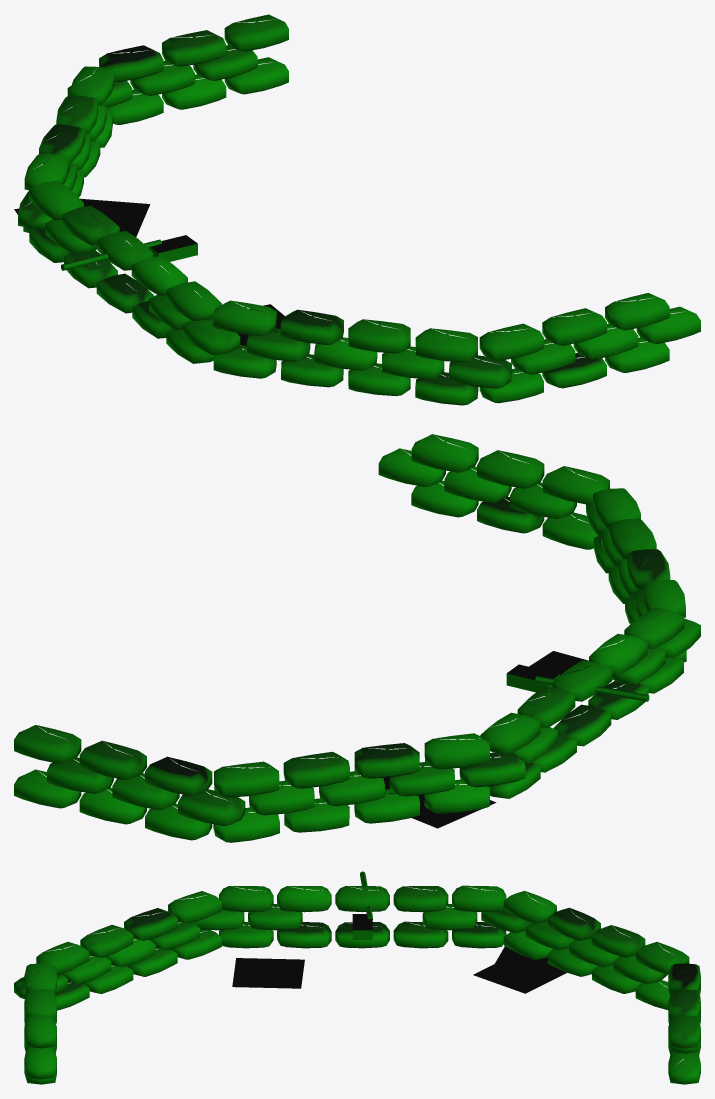
Rendered from sandbagbunker.glb.
3 views of the same model, one above another, from view 1: azimuth 30°, elevation 25°; view 2: azimuth 150°, elevation 25°; view 3: azimuth 270°, elevation 25° (orthographic). The views are drawn at different scales.
Parts seen in each view (by area): view 1: lod0; view 2: lod0; view 3: lod0.
Boxes of the visible parts, x1=… form: lod0: x1=14, y1=14, x2=700, y2=405; lod0: x1=14, y1=434, x2=700, y2=842; lod0: x1=14, y1=871, x2=700, y2=1084.
Size of what is drawn, in the model's own units: 5.66 by 0.7869 by 8.96.
